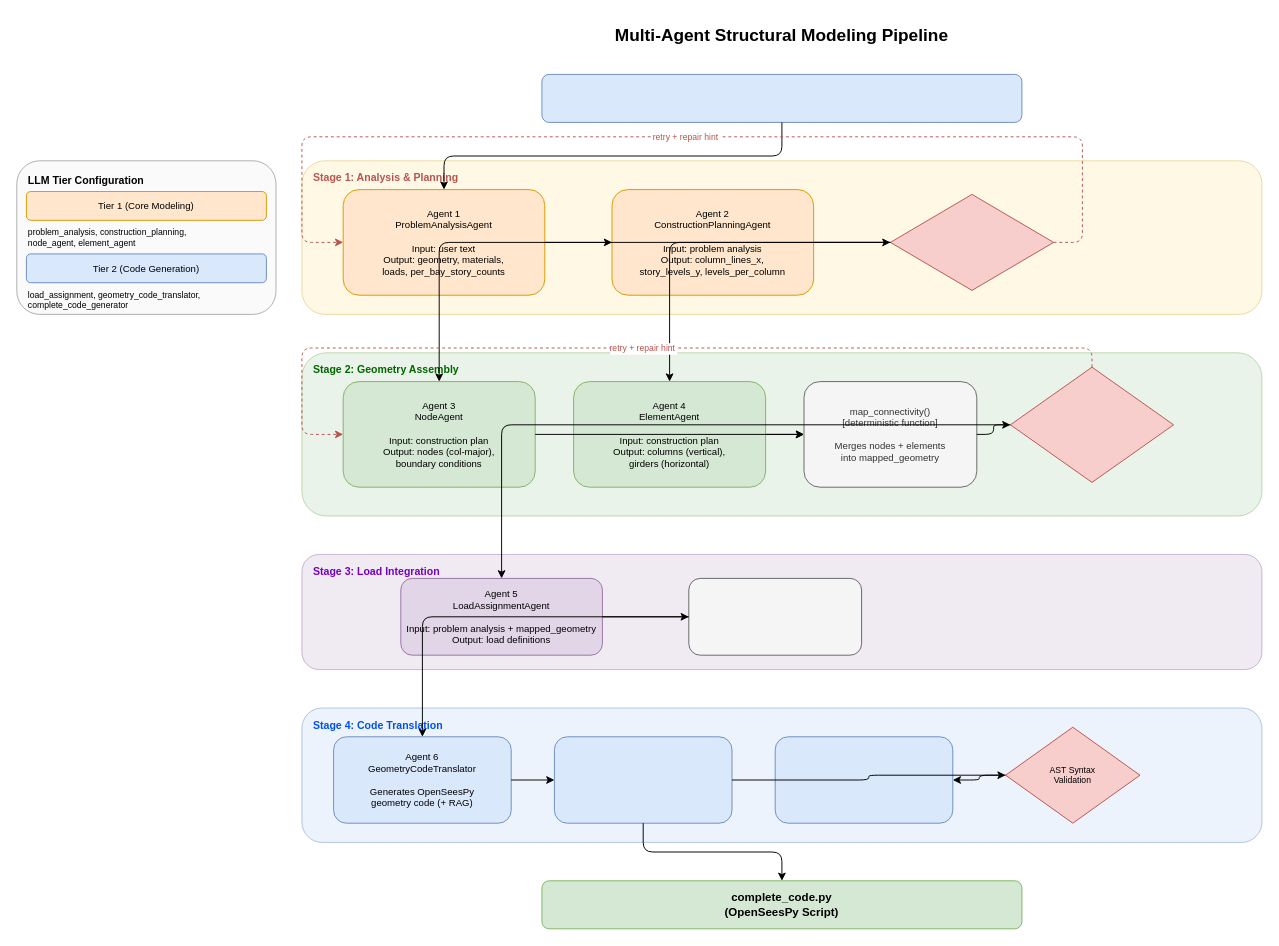
This 1279x946 diagram has some shape labels left out. The centre of each missing label's shape, as x and y in pixels:
Agent 7 CompleteCodeGenerator Generates complete OpenSeesPy script (+ RAG): point 642,779
Agent 8 PythonCheckAgent Diagnoses execution errors, assigns blame: point 863,779
compile_json() [deterministic] Assembles final model JSON: point 775,616
User Input (Natural Language Frame Description): point 781,97
validate_analysis_planning(): point 971,241
validate_geometry() + validate_geometry_consistency(): point 1091,424
